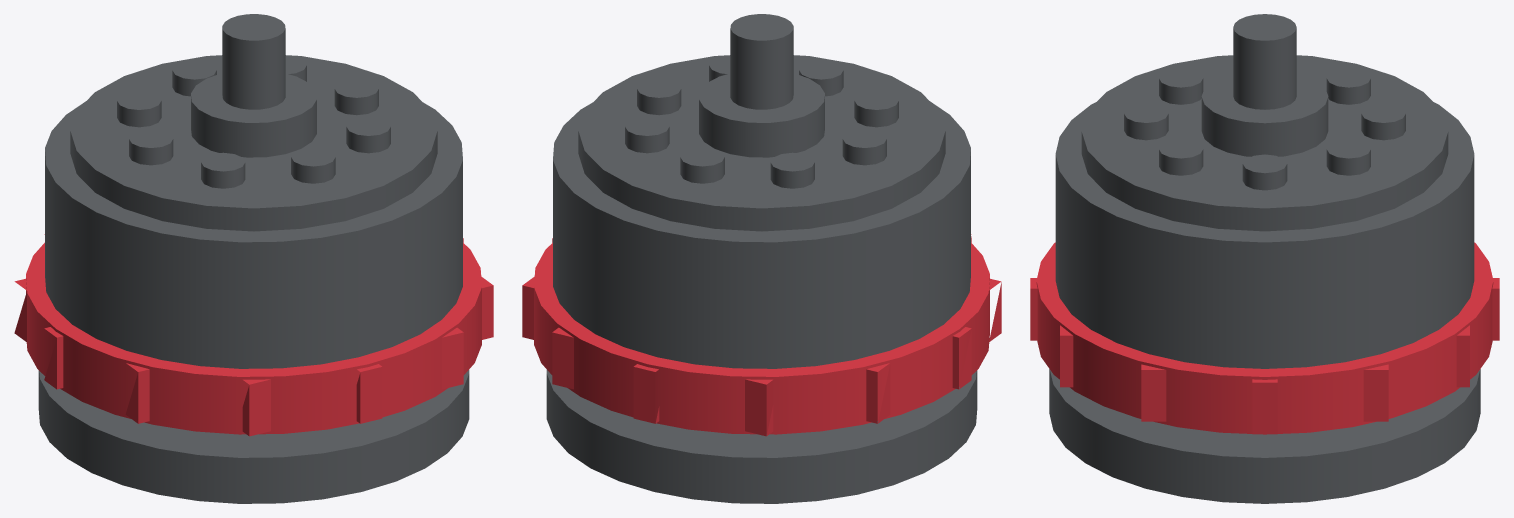
File: MOTOR_MASTER.glb
3 renders of one model, left to right at view 1: azimuth 30°, elevation 25°; view 2: azimuth 150°, elevation 25°; view 3: azimuth 270°, elevation 25°, orthographic.
Parts seen in each view (by area): view 1: MOTOR_CAN, MOTOR_RING; view 2: MOTOR_CAN, MOTOR_RING; view 3: MOTOR_CAN, MOTOR_RING.
Part boxes in pixels (x1,y1,x2,y2): MOTOR_CAN: (38,14,469,503); MOTOR_RING: (14,234,493,436); MOTOR_CAN: (546,14,977,503); MOTOR_RING: (522,234,1001,436); MOTOR_CAN: (1049,14,1480,503); MOTOR_RING: (1030,242,1499,434).
Size of the model in its own units: 0.074 by 0.079 by 0.074.
